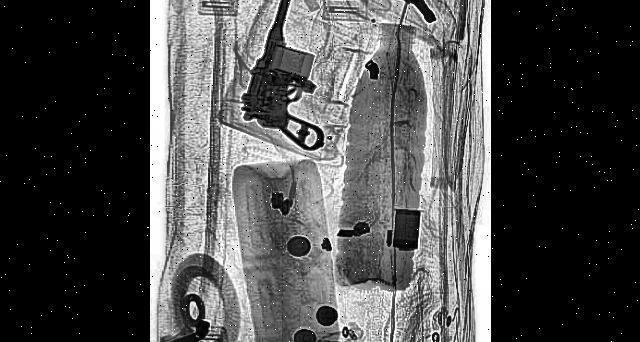Gun: (235, 0, 354, 206), (309, 0, 439, 29)
